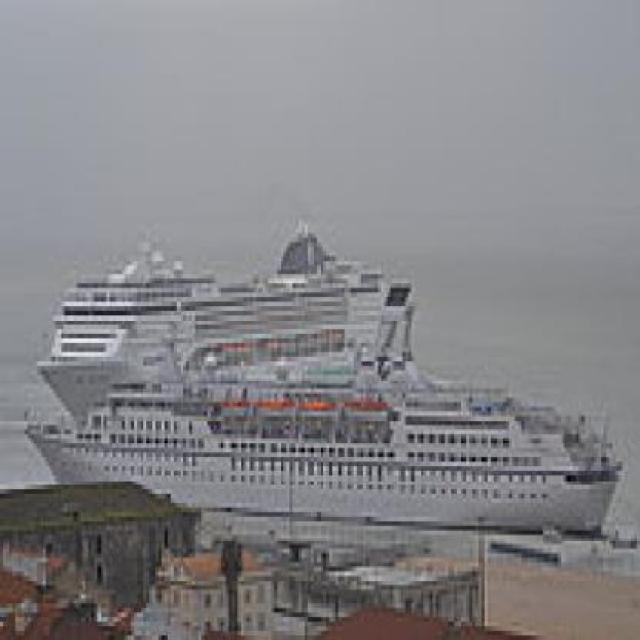cruise: (1, 344, 638, 549), (37, 234, 419, 426)
